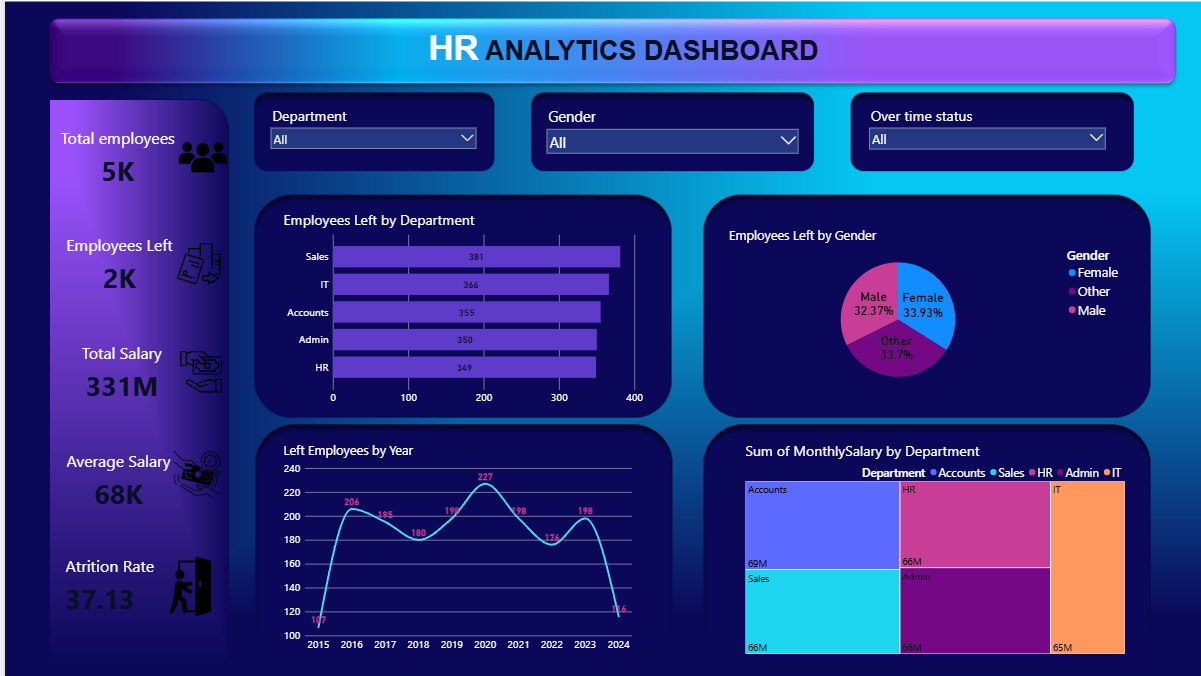

The page's visual inventory and layout, read from the dashboard file:
{"tool":"powerbi","page":{"name":"HR Analytices","canvas":[2500,1700],"ordinal":0},"visuals":[{"type":"cardVisual","fields":{"Data":["HR_Attrition_Indian_Dataset.Total employes"]},"box":[96,352,384,224],"z":0},{"type":"clusteredBarChart","fields":{"Category":["HR_Attrition_Indian_Dataset.Department"],"Y":["HR_Attrition_Indian_Dataset.Employees left"]},"box":[576,576,768,416],"z":1000},{"type":"pieChart","fields":{"Category":["HR_Attrition_Indian_Dataset.Gender"],"Y":["HR_Attrition_Indian_Dataset.Employees left"]},"box":[1504,608,832,352],"z":2000},{"type":"treemap","fields":{"Values":["Sum(HR_Attrition_Indian_Dataset.MonthlySalary)"],"Group":["HR_Attrition_Indian_Dataset.Department"]},"box":[1536,1056,800,448],"z":3000},{"type":"lineChart","fields":{"Category":["HR_Attrition_Indian_Dataset.DateOfJoining.Variation.Date Hierarchy.Year"],"Y":["HR_Attrition_Indian_Dataset.Left Employees"]},"box":[576,1056,736,448],"z":4000},{"type":"slicer","fields":{"Values":["HR_Attrition_Indian_Dataset.Department"]},"box":[544,352,448,128],"z":5000},{"type":"slicer","fields":{"Values":["HR_Attrition_Indian_Dataset.Gender"]},"box":[1120,352,544,128],"z":6000},{"type":"slicer","fields":{"Values":["HR_Attrition_Indian_Dataset.Over time status"]},"box":[1792,352,512,128],"z":7000},{"type":"textbox","box":[0,192,2496,96],"z":8000},{"type":"cardVisual","fields":{"Data":["HR_Attrition_Indian_Dataset.Employees left"]},"box":[96,576,384,224],"z":9000},{"type":"cardVisual","fields":{"Data":["HR_Attrition_Indian_Dataset.Total Salary"]},"box":[96,800,384,224],"z":10000},{"type":"cardVisual","fields":{"Data":["HR_Attrition_Indian_Dataset.Average Salary"]},"box":[96,1024,384,224],"z":11000},{"type":"cardVisual","fields":{"Data":["HR_Attrition_Indian_Dataset.Atrition Rate"]},"box":[96,1248,384,224],"z":12000}]}

Visuals, with their boxes on the page's 2500x1700 design canvas (x1, y1, x2, y2). These are canvas units, not pixel positions in the 1201x676 screenshot, which may show the page scaled, cropped or inside an application window:
cardVisual - HR_Attrition_Indian_Dataset.Total employes: <box>96,352,480,576</box>
clusteredBarChart - HR_Attrition_Indian_Dataset.Department x HR_Attrition_Indian_Dataset.Employees left: <box>576,576,1344,992</box>
pieChart - HR_Attrition_Indian_Dataset.Gender x HR_Attrition_Indian_Dataset.Employees left: <box>1504,608,2336,960</box>
treemap - Sum(HR_Attrition_Indian_Dataset.MonthlySalary) x HR_Attrition_Indian_Dataset.Department: <box>1536,1056,2336,1504</box>
lineChart - HR_Attrition_Indian_Dataset.DateOfJoining.Variation.Date Hierarchy.Year x HR_Attrition_Indian_Dataset.Left Employees: <box>576,1056,1312,1504</box>
slicer - HR_Attrition_Indian_Dataset.Department: <box>544,352,992,480</box>
slicer - HR_Attrition_Indian_Dataset.Gender: <box>1120,352,1664,480</box>
slicer - HR_Attrition_Indian_Dataset.Over time status: <box>1792,352,2304,480</box>
textbox: <box>0,192,2496,288</box>
cardVisual - HR_Attrition_Indian_Dataset.Employees left: <box>96,576,480,800</box>
cardVisual - HR_Attrition_Indian_Dataset.Total Salary: <box>96,800,480,1024</box>
cardVisual - HR_Attrition_Indian_Dataset.Average Salary: <box>96,1024,480,1248</box>
cardVisual - HR_Attrition_Indian_Dataset.Atrition Rate: <box>96,1248,480,1472</box>
